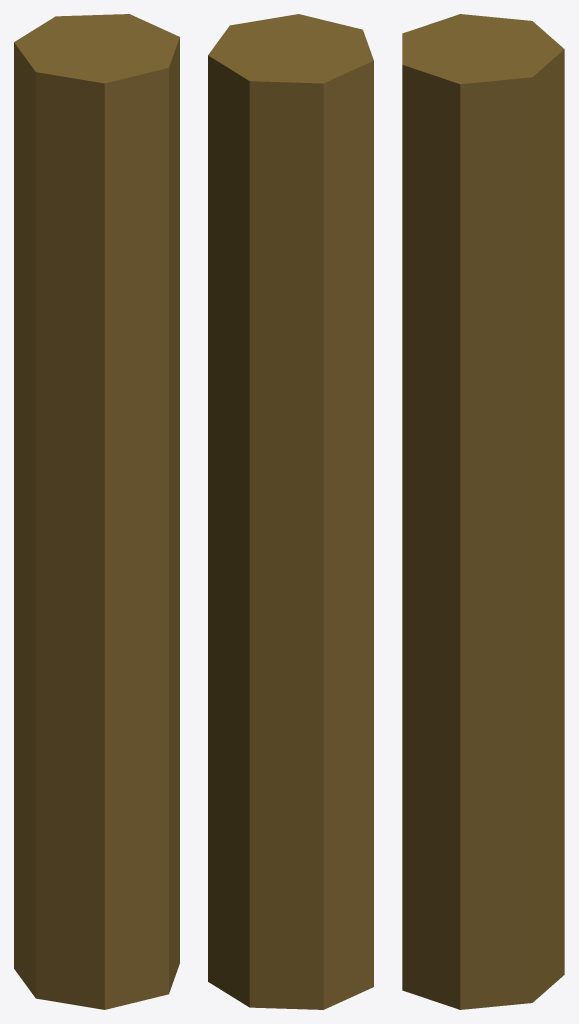
The model's file is fence_A_single_post.gltf.
The picture shows the model from 3 angles, left to right: view 1: azimuth 30°, elevation 25°; view 2: azimuth 150°, elevation 25°; view 3: azimuth 270°, elevation 25°; orthographic projection.
Parts seen in each view (by area): view 1: Post; view 2: Post; view 3: Post.
Boxes of the visible parts, <box> form: Post: <box>14,14,179,1009</box>; Post: <box>208,14,373,1009</box>; Post: <box>402,14,564,1009</box>.
Bounding box in the file's own units: 0.4875 × 2.99 × 0.4752.
